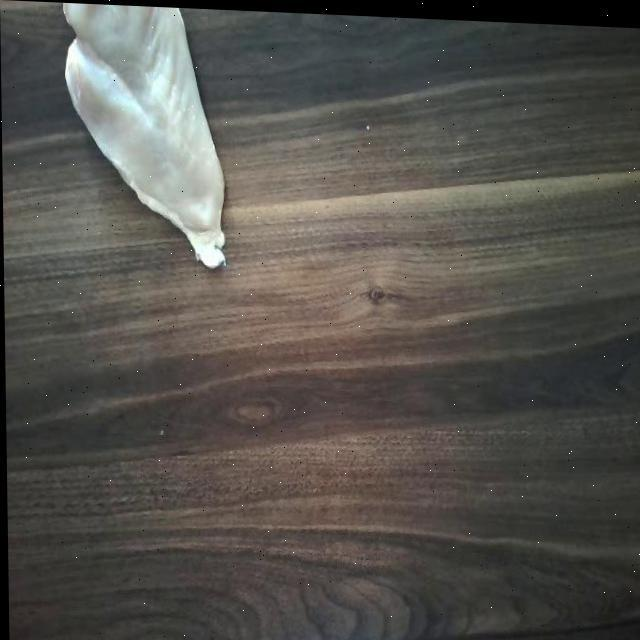breast: (54, 2, 236, 267)
